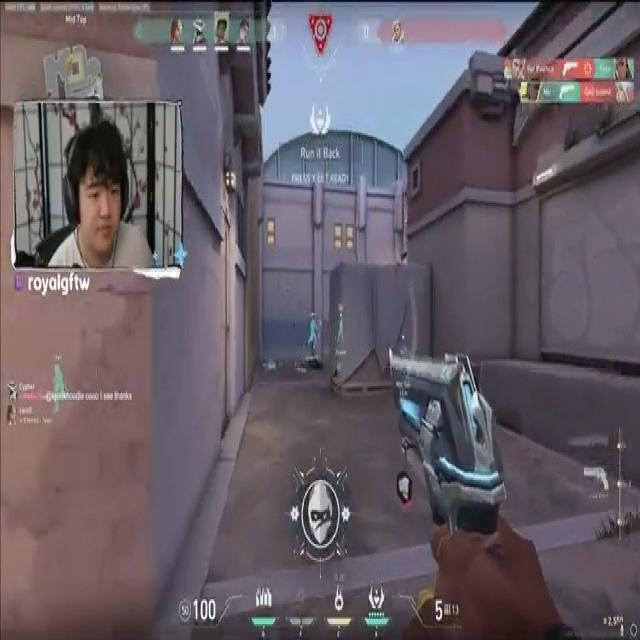ally behind wall: (308, 319, 318, 346)
